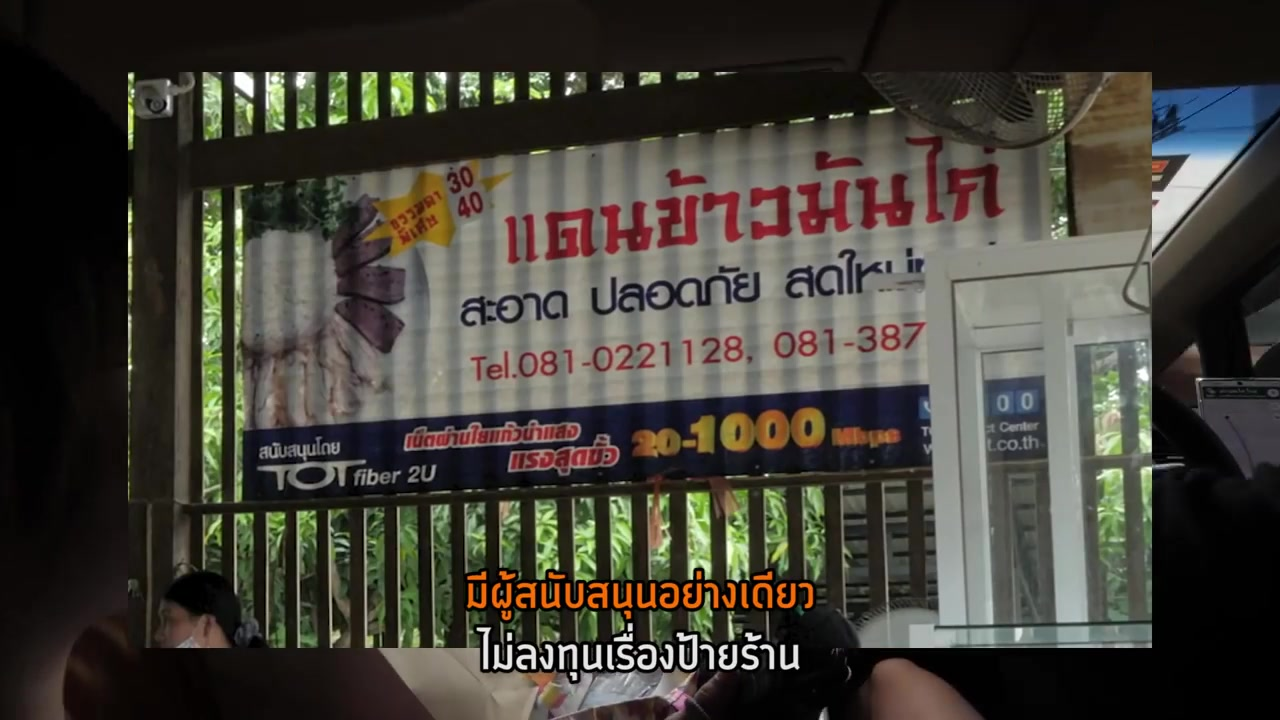text-label: (473, 621, 801, 684), (466, 564, 820, 621)
